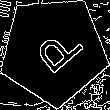P_SW: (23, 20, 84, 81)
